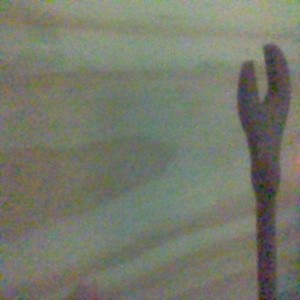spanner: (235, 43, 293, 300)
